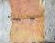Corrosion: (6, 1, 46, 43)
